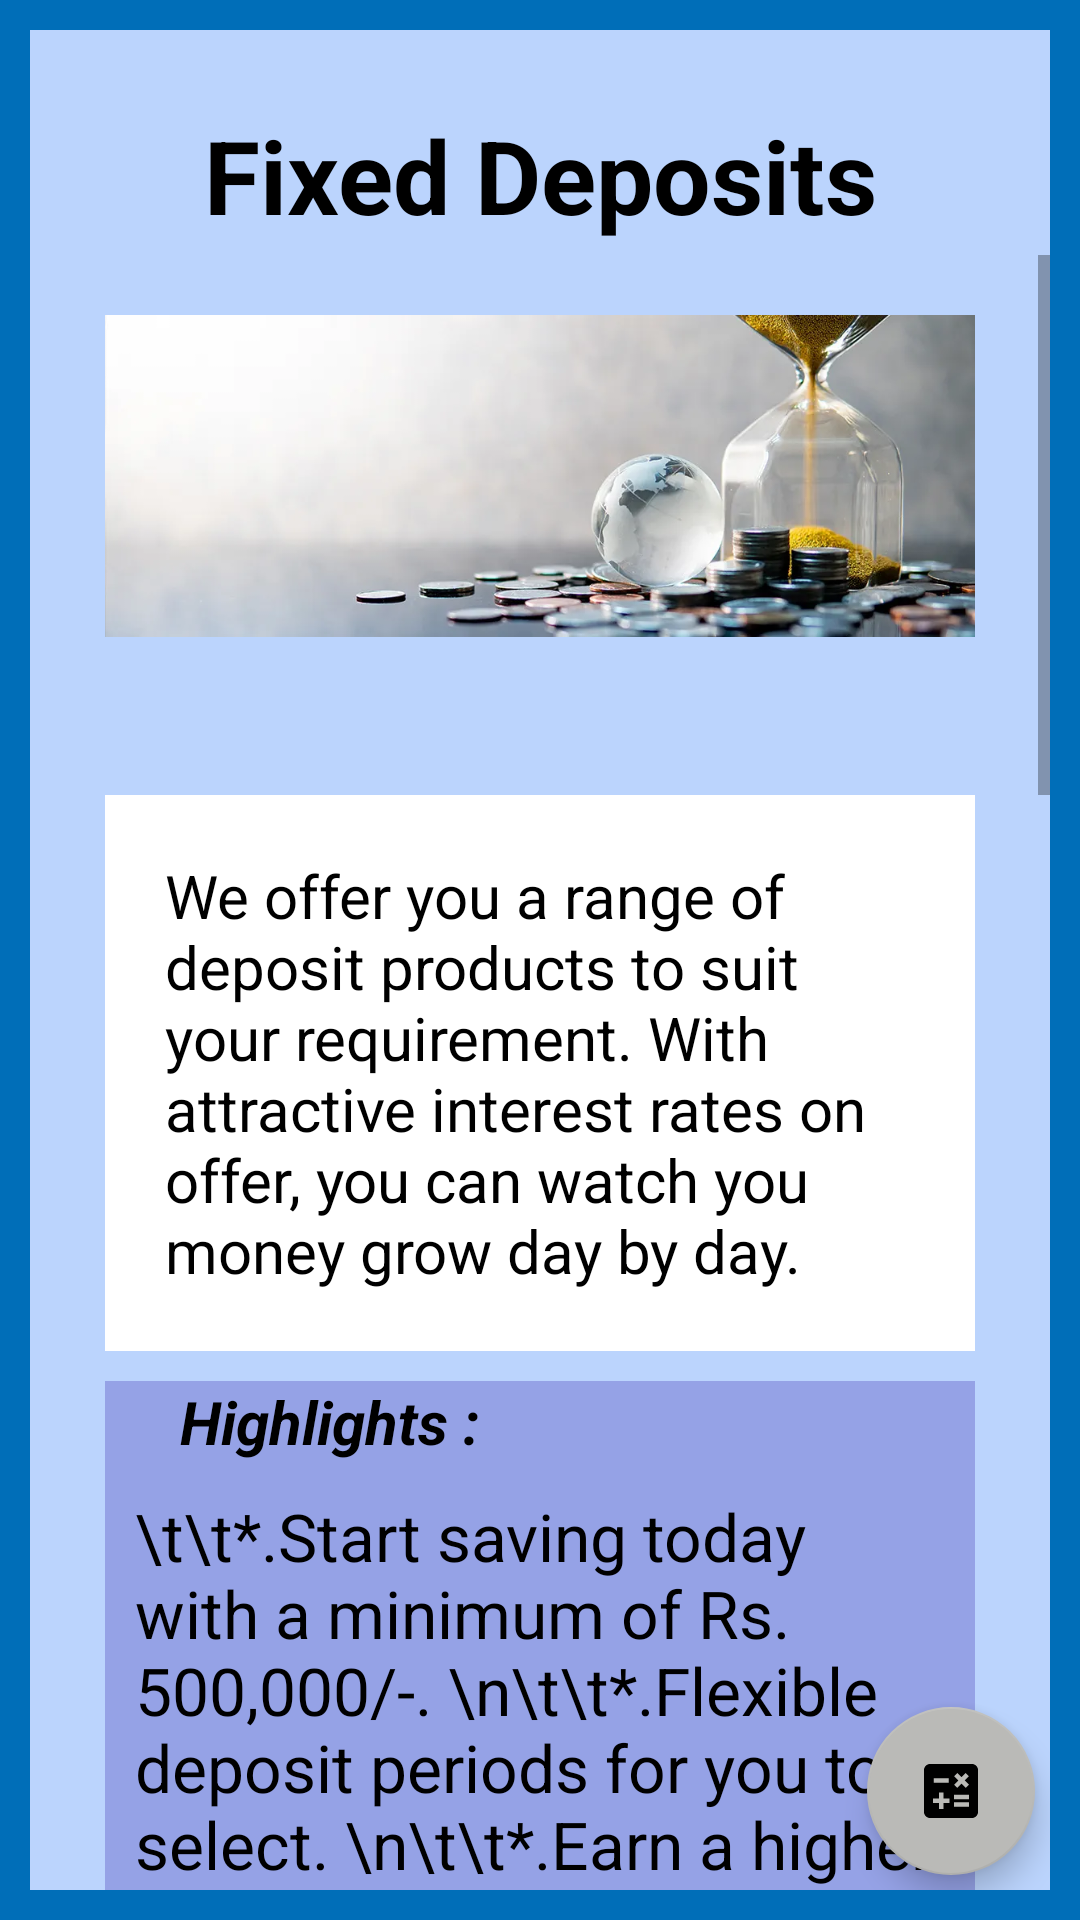

Screen size 1080px×1920px. Icon name, then its center in pixels as (x=x, y=y):
cal: (x=951, y=1791)
